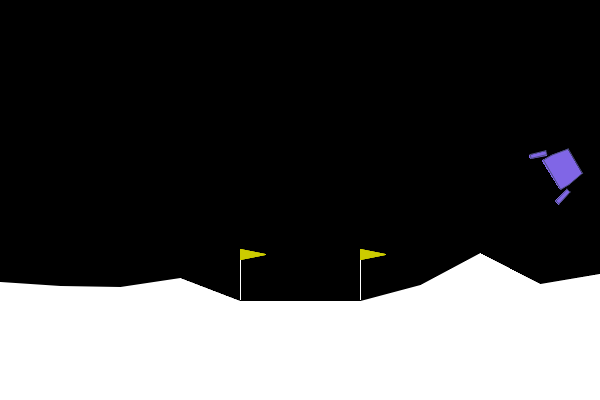lander: (527, 135, 592, 207)
